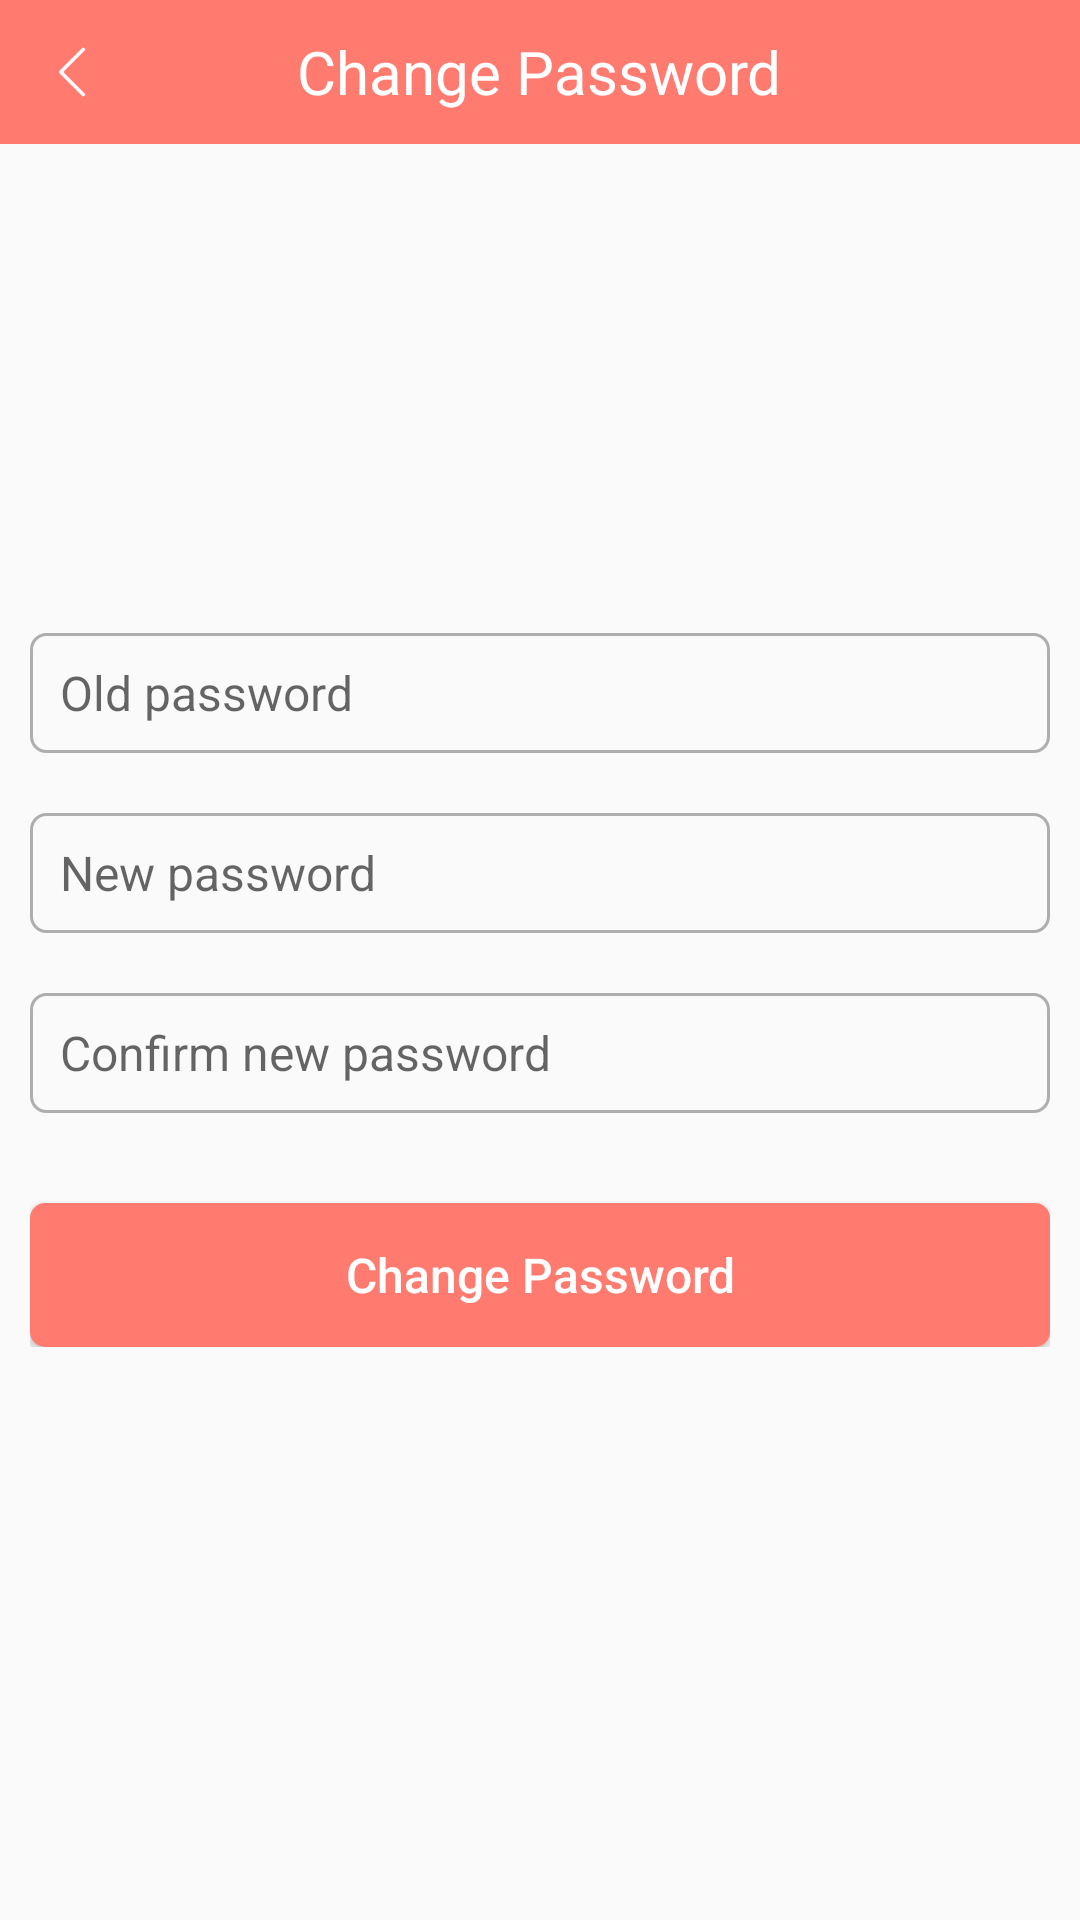

Named icons in this screenshot (1080×1920) and their bounding boxes, (x1, y1, x2, y2):
backwhite: (59, 47, 85, 97)
